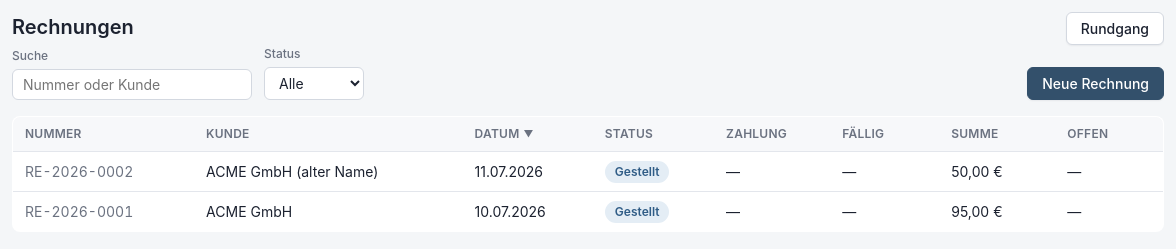
Rechnungen › sagt bei einer erfolglosen Suche, wonach gesucht wurde
Expected: the button "RE-2026-0001" is shown, [25, 201, 133, 222]
Step 1. Type "gibtsnicht" into the search field labelled "Suche" → point(132, 84), box [12, 69, 252, 100]
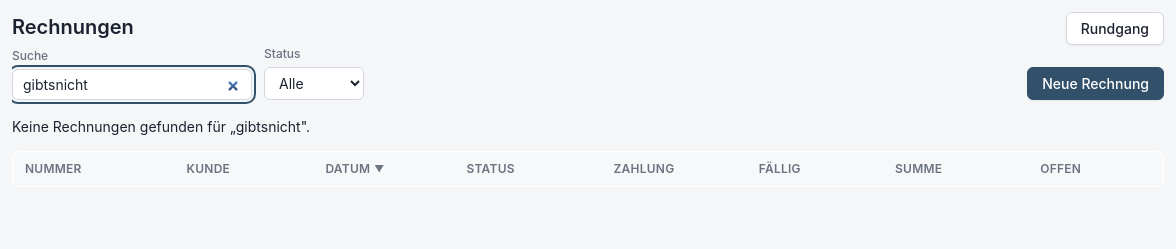
Expected: the text "Keine Rechnungen gefunden für „gibtsnicht\"." is shown, [12, 118, 310, 135]
